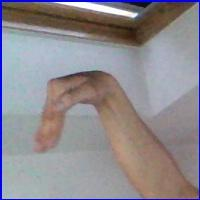del: (30, 72, 131, 161)
